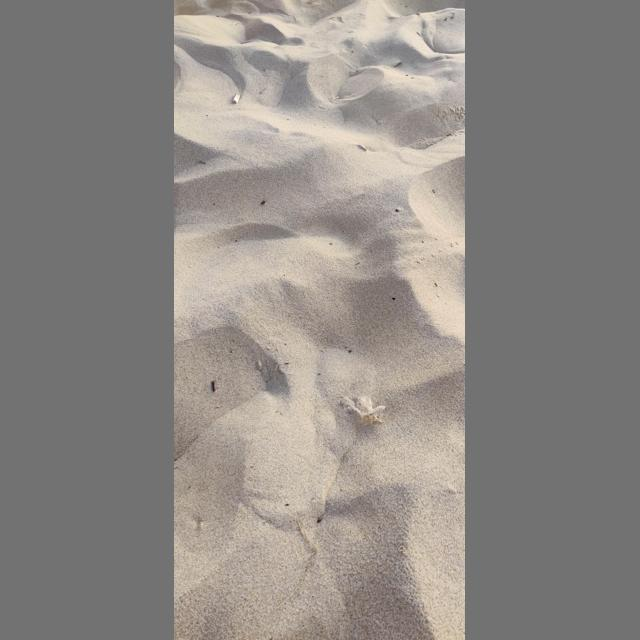litter: (349, 396, 386, 419), (232, 94, 240, 104)
